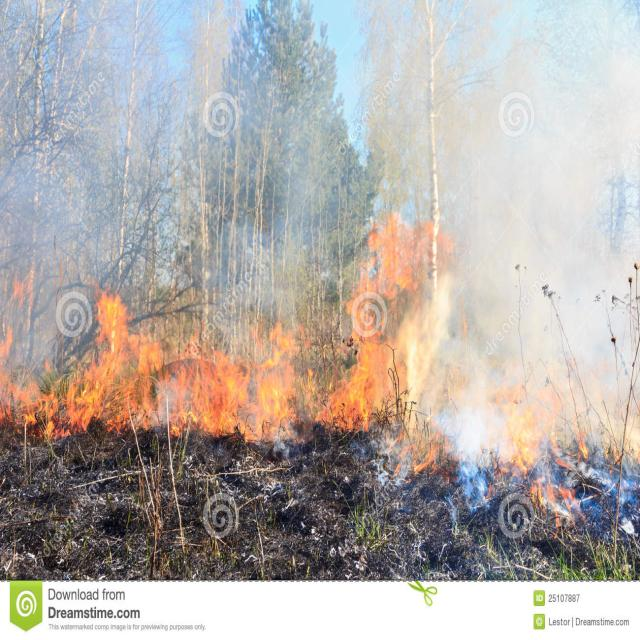Fire: (25, 237, 463, 433), (456, 373, 606, 522)
Smoke: (412, 47, 620, 454), (13, 16, 190, 279)
